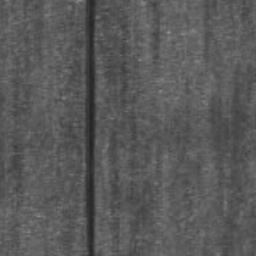Scratches: (84, 0, 96, 256)
